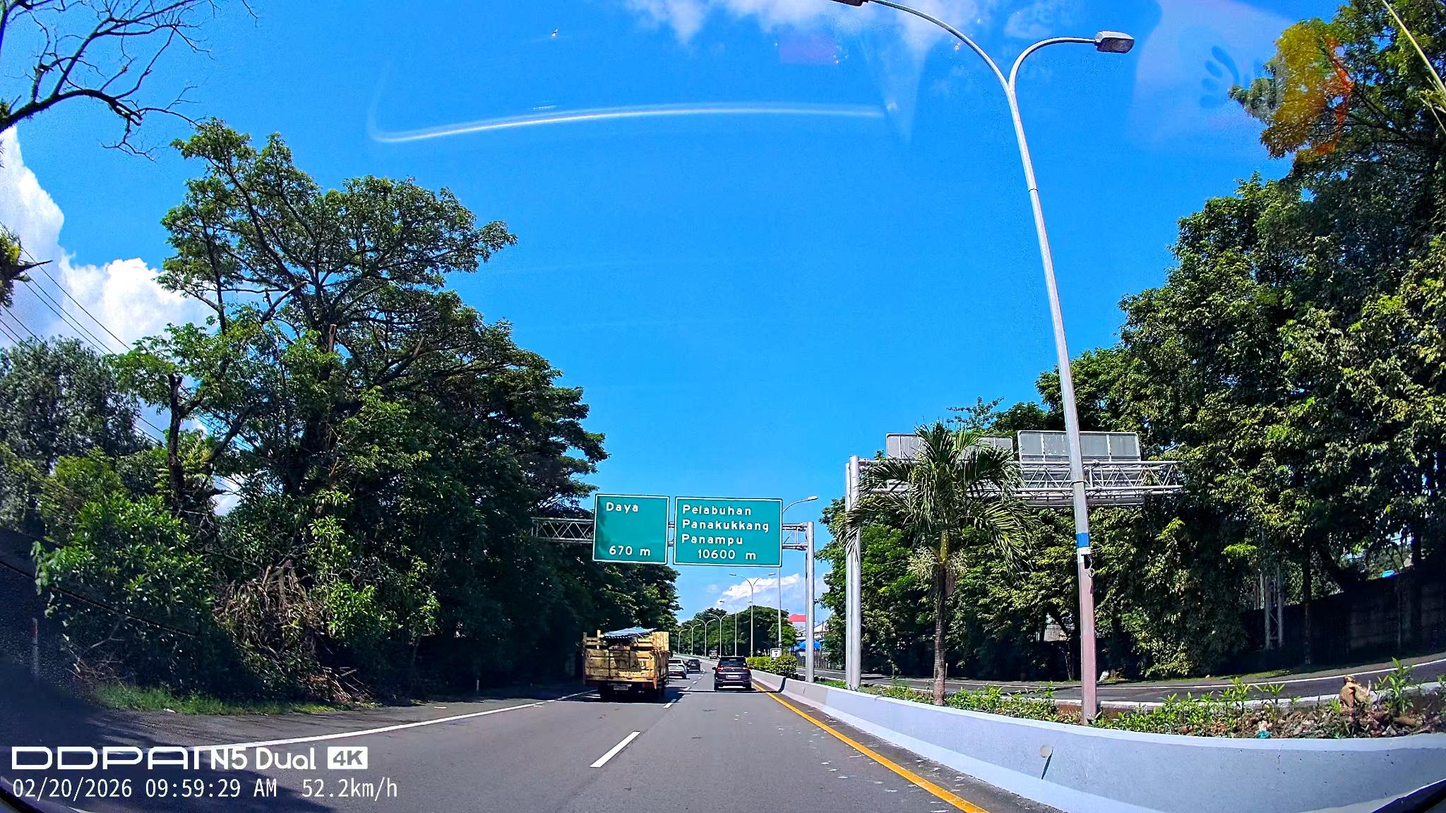rambu_teks: (673, 496, 783, 568), (592, 493, 670, 565)
